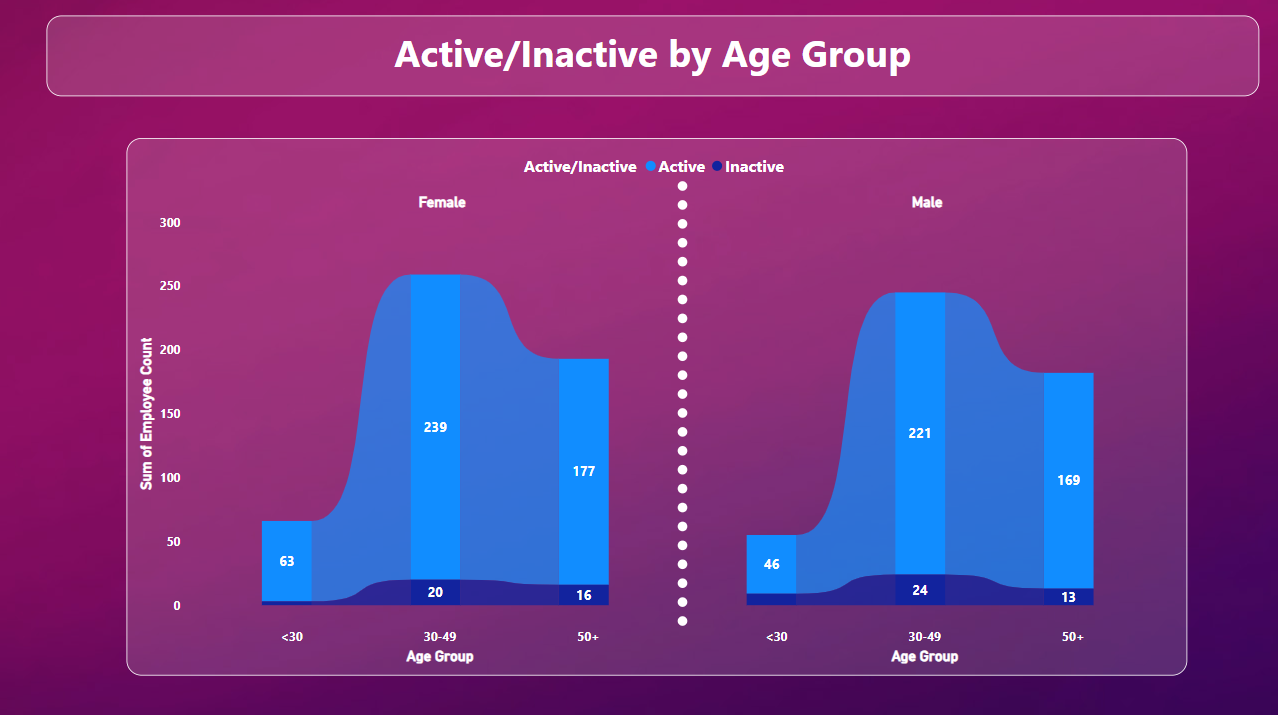

The dashboard page shown, as its layout file describes it:
{"tool":"powerbi","page":{"name":"Active/Inactive Attrition","canvas":[1280,720],"ordinal":1},"visuals":[{"type":"textbox","box":[48,17.8,1213,81],"z":0},{"type":"ribbonChart","fields":{"Category":["Age Group.Age Group"],"Y":["Sum(EMPData.Employee Count)"],"Series":["EMPData.Active/Inactive"],"Rows":["EMPData.Gender"]},"box":[127.6,140,1060.7,537.9],"z":7000}]}

Visuals, with their boxes in screenshot pixels (x1, y1, x2, y2), scaled from the page's 1280x720 canvas onto the 1278x715 screenshot:
textbox: 48:18:1259:98
ribbonChart - Age Group.Age Group x Sum(EMPData.Employee Count): 127:139:1186:673
